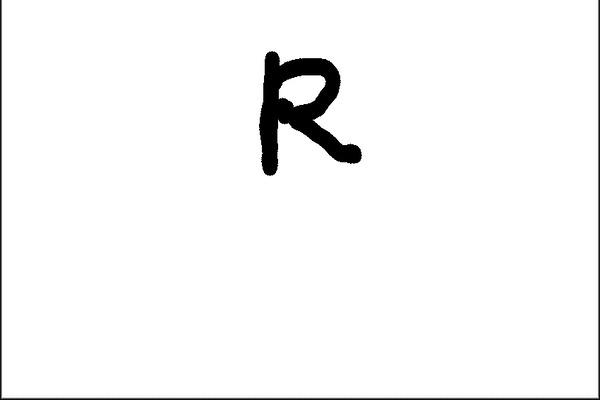R: (239, 36, 371, 185)
